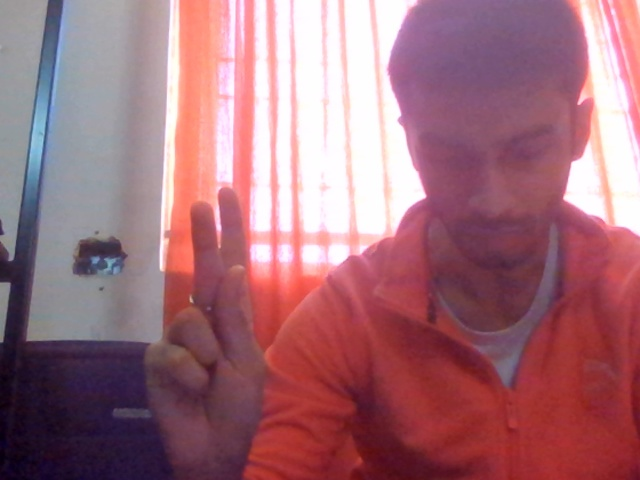K: (120, 191, 309, 480)
